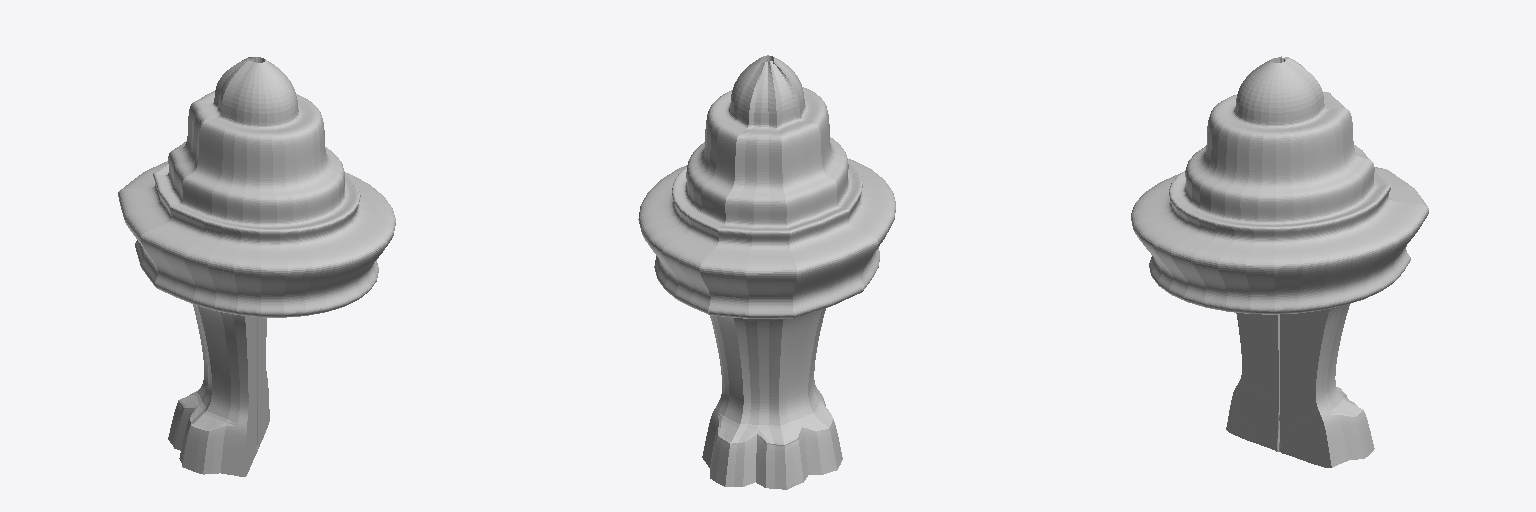
Rendered from tube_foot2.obj.
3 renders of one model, left to right at view 1: azimuth 30°, elevation 25°; view 2: azimuth 150°, elevation 25°; view 3: azimuth 270°, elevation 25°, orthographic.
Visible parts, largest first — view 1: Line003; view 2: Line003; view 3: Line003.
Boxes of the visible parts, x1=… form: Line003: x1=118, y1=57, x2=395, y2=476; Line003: x1=638, y1=55, x2=895, y2=489; Line003: x1=1131, y1=56, x2=1428, y2=467.
Size of the model in its own units: 43.54 by 72.47 by 49.96.